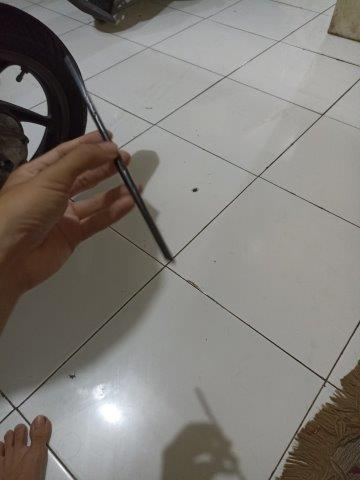sedotan: (61, 56, 173, 264)
